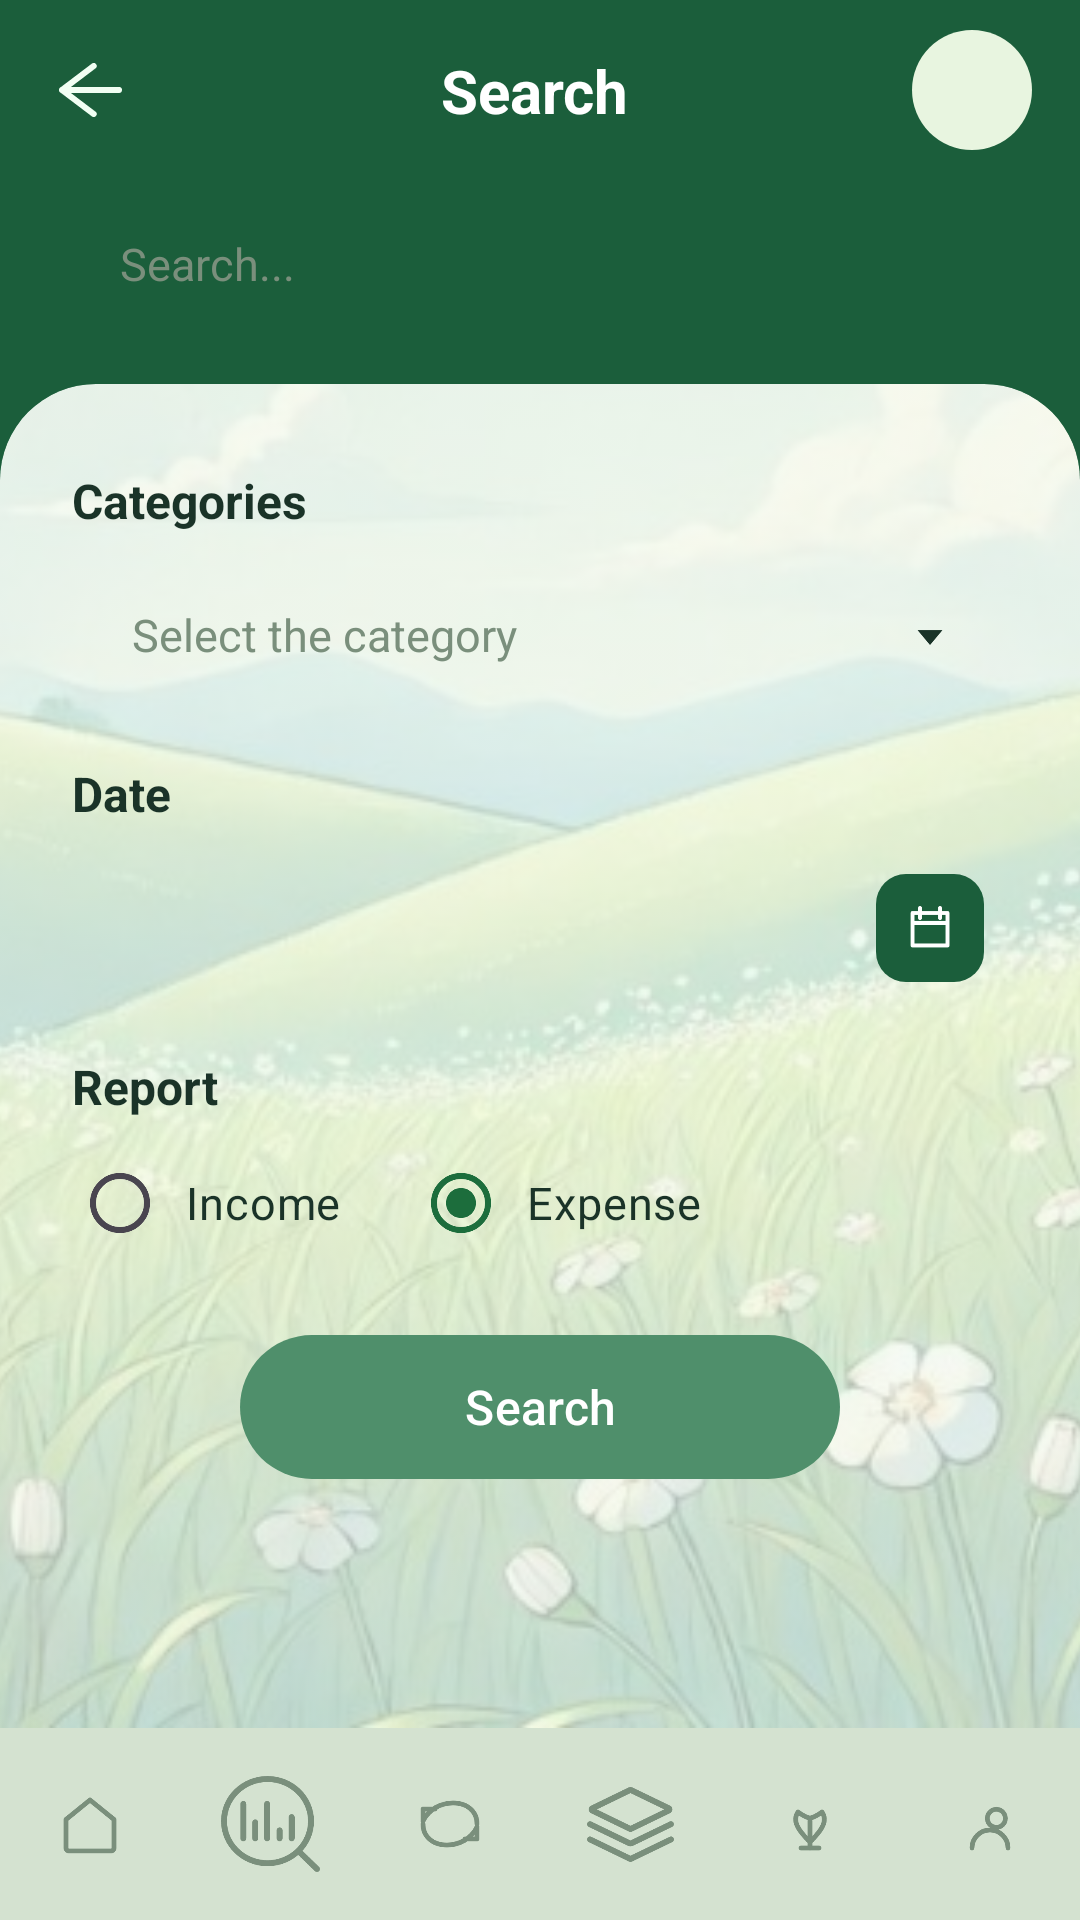

Where icons sit on this 1080 × 1920 app screen, as {"x1": x1, "y1": y1, "x2": x2, "y2": y2}:
Analytics: {"x1": 221, "y1": 1776, "x2": 320, "y2": 1872}
Back: {"x1": 59, "y1": 63, "x2": 122, "y2": 117}
Categories: {"x1": 587, "y1": 1787, "x2": 674, "y2": 1862}
Choose date: {"x1": 876, "y1": 874, "x2": 984, "y2": 982}
Goals: {"x1": 793, "y1": 1809, "x2": 827, "y2": 1851}
Home: {"x1": 63, "y1": 1797, "x2": 117, "y2": 1853}
Profile: {"x1": 970, "y1": 1807, "x2": 1010, "y2": 1850}
Transactions: {"x1": 421, "y1": 1800, "x2": 479, "y2": 1848}
